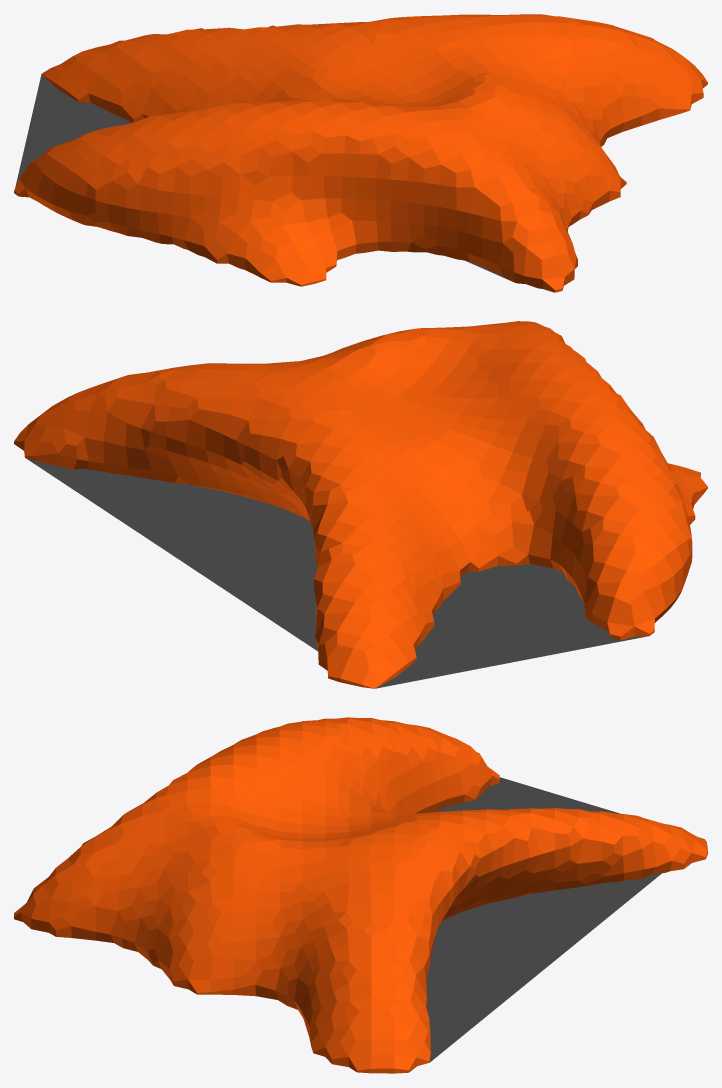
3 views of the same model, one above another, from view 1: azimuth 30°, elevation 25°; view 2: azimuth 150°, elevation 25°; view 3: azimuth 270°, elevation 25° (orthographic). The views are drawn at different scales.
Visible parts, largest first — view 1: 19.007; view 2: 19.007; view 3: 19.007.
Part boxes in pixels (x1,y1,x2,y2): 19.007: [14, 14, 707, 292]; 19.007: [14, 321, 707, 688]; 19.007: [14, 717, 707, 1073].
Size of the model in its own units: 15.61 by 2.85 by 15.11.
